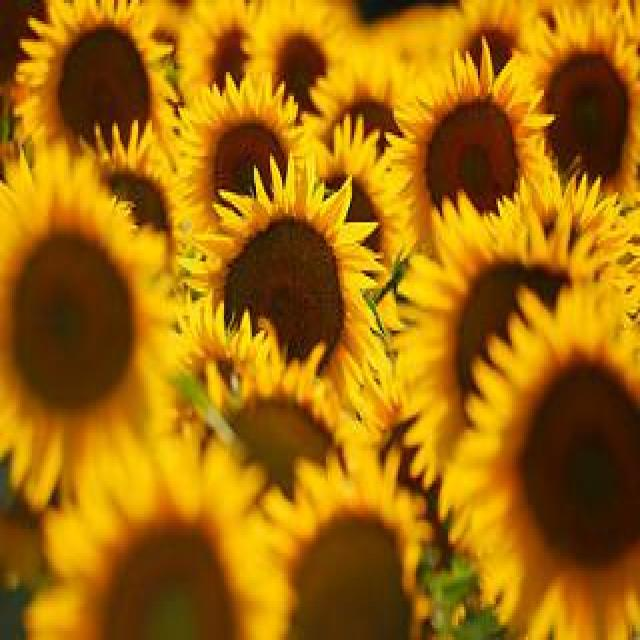sunflower: (438, 287, 640, 640), (392, 185, 614, 496), (0, 145, 178, 511), (30, 435, 289, 640), (180, 164, 380, 419), (381, 34, 557, 270), (252, 435, 424, 640), (12, 0, 180, 183), (508, 7, 640, 201), (217, 334, 351, 491), (303, 115, 399, 286), (178, 70, 308, 179), (306, 50, 418, 152), (508, 174, 628, 257), (254, 3, 346, 108), (181, 297, 265, 404), (437, 3, 543, 80), (184, 2, 250, 88)
